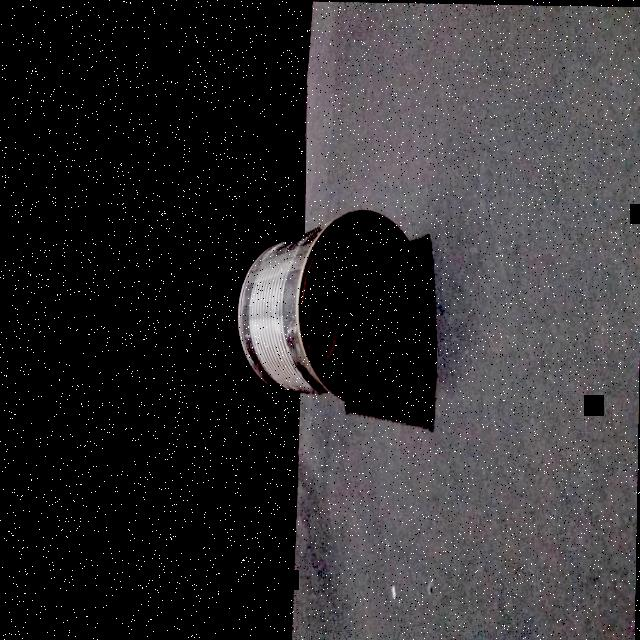can: (233, 204, 427, 403)
